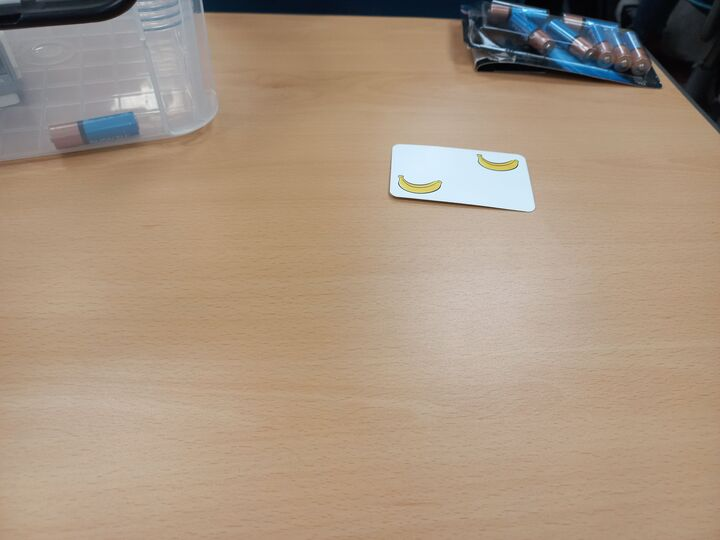banana2: (387, 139, 538, 216)
